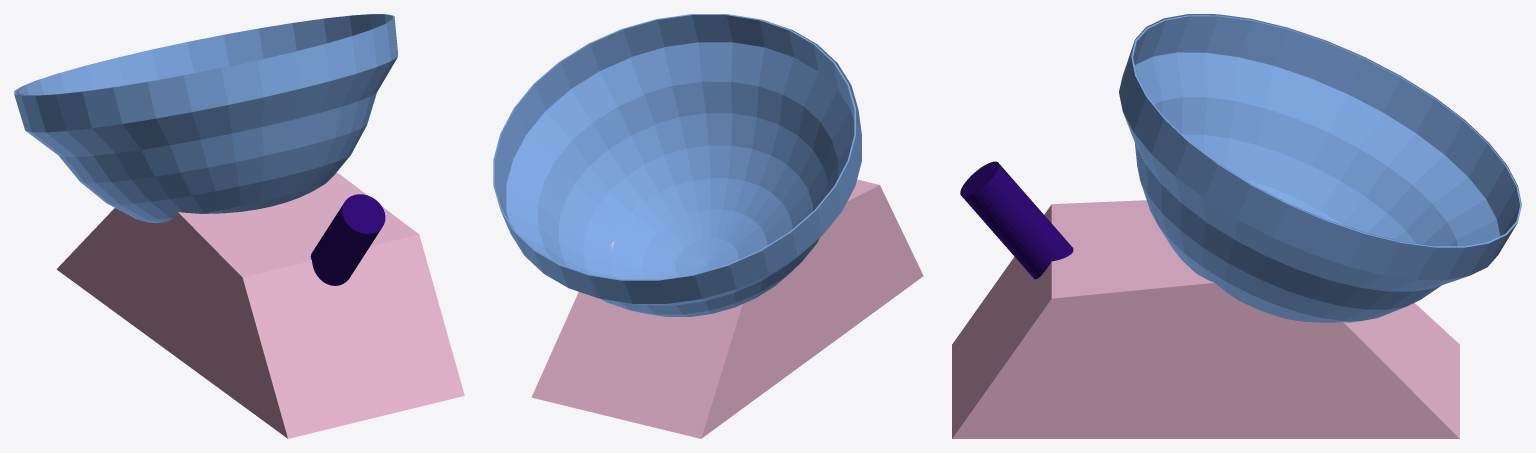
The model's file is recycler.glb.
3 renders of one model, left to right at view 1: azimuth 30°, elevation 25°; view 2: azimuth 150°, elevation 25°; view 3: azimuth 270°, elevation 25°, orthographic. The views are drawn at different scales.
Visible parts, largest first — view 1: Cube, Sphere.001, Sphere, Cylinder; view 2: Sphere, Cube, Sphere.001; view 3: Sphere, Cube, Cylinder, Sphere.001.
Part boxes in pixels (x1,y1,x2,y2): Cube: (56,172,464,438); Sphere.001: (14,14,391,223); Sphere: (16,14,397,206); Cylinder: (310,194,385,285); Sphere: (493,14,858,309); Cube: (531,179,923,438); Sphere.001: (495,19,861,316); Sphere: (1119,15,1521,322); Cube: (952,200,1459,438); Cylinder: (960,161,1073,279); Sphere.001: (1119,14,1521,246).
Bounding box in the file's own units: 9.55 × 8.27 × 12.74.
